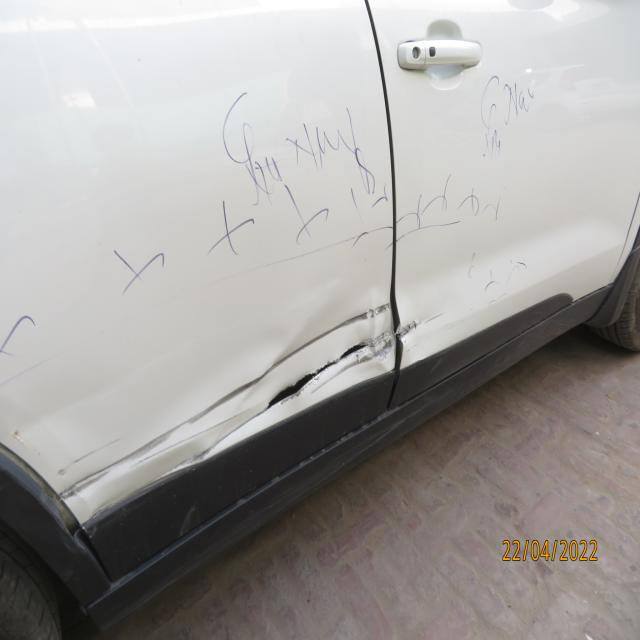damage: (66, 294, 392, 504), (397, 292, 457, 353)
